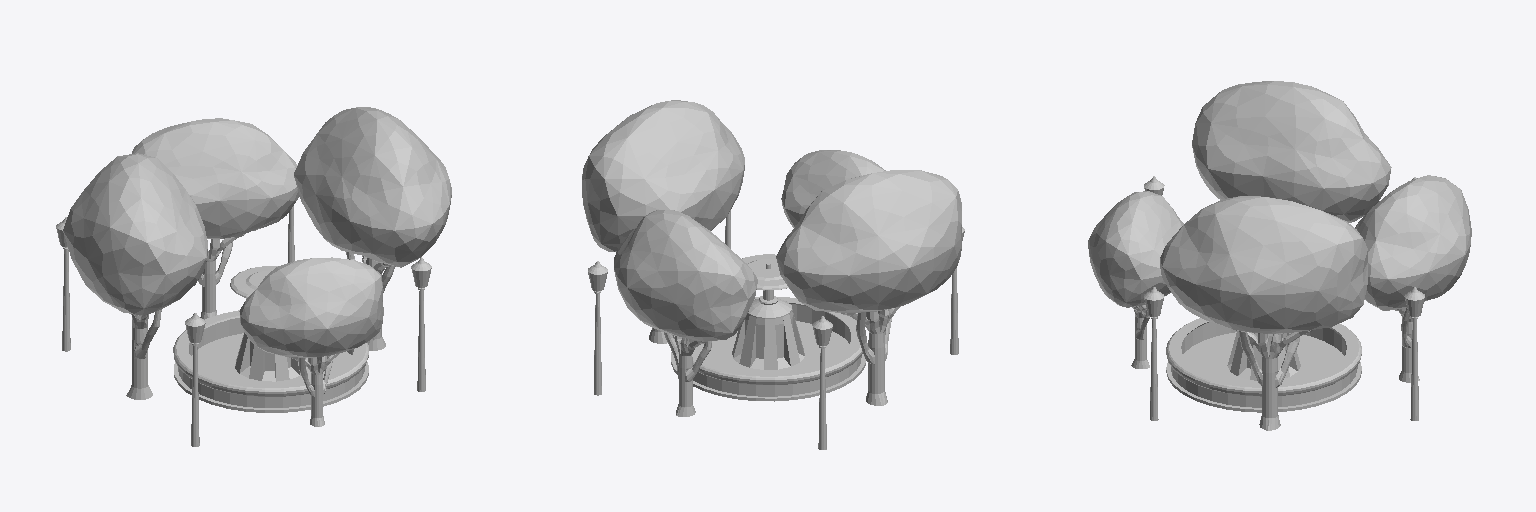
Rendered from Parque 1.obj.
3 views of the same model, side by side, from view 1: azimuth 30°, elevation 25°; view 2: azimuth 150°, elevation 25°; view 3: azimuth 270°, elevation 25° (orthographic).
Visible parts, largest first — view 1: Parque_Cylinder.002; view 2: Parque_Cylinder.002; view 3: Parque_Cylinder.002.
Part boxes in pixels (left/top/right/bottom): Parque_Cylinder.002: left=56, top=107, right=451, bottom=446; Parque_Cylinder.002: left=582, top=100, right=964, bottom=449; Parque_Cylinder.002: left=1088, top=81, right=1471, bottom=430.
Size of the model in its own units: 2.12 by 1.31 by 1.99.